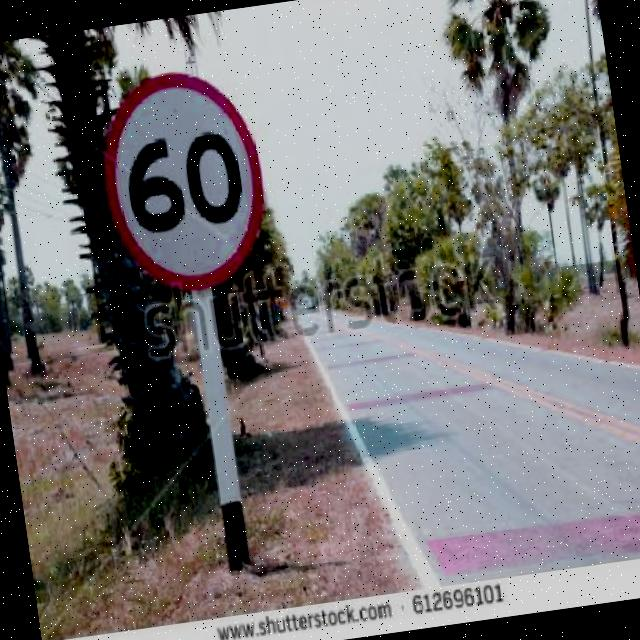Ograniczenie predkosci do 60: (92, 60, 278, 302)
